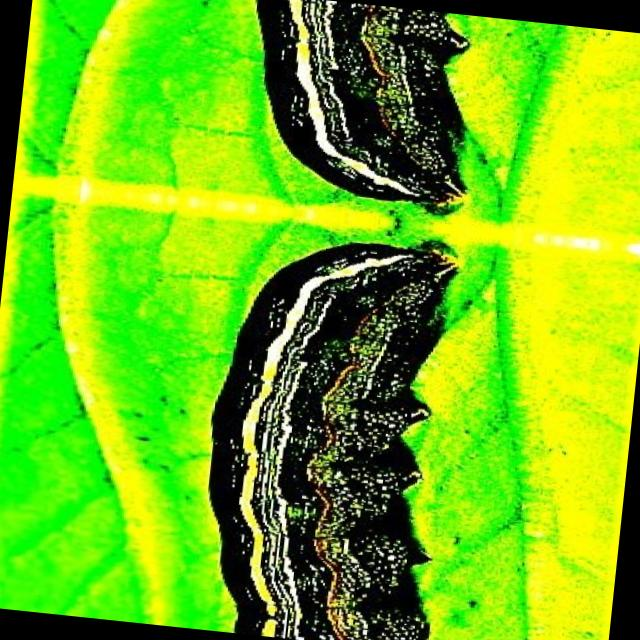Armyworm: (136, 211, 579, 640), (167, 1, 577, 226)
